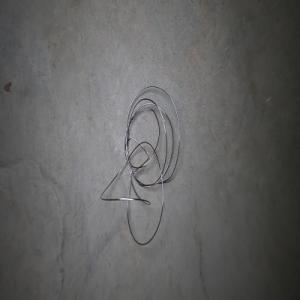Wire: (100, 85, 179, 245)
